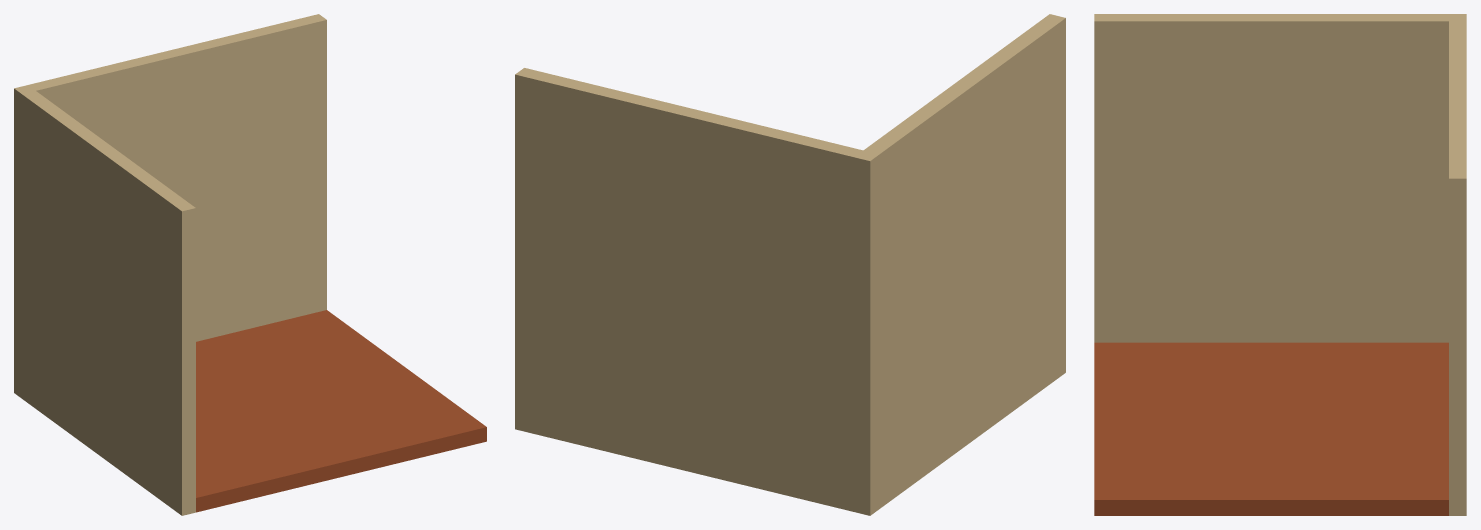
The model's file is room_wood.glb.
3 views of the same model, side by side, from view 1: azimuth 30°, elevation 25°; view 2: azimuth 150°, elevation 25°; view 3: azimuth 270°, elevation 25° (orthographic). The views are drawn at different scales.
Parts seen in each view (by area): view 1: wall; view 2: wall; view 3: wall.
Boxes of the visible parts, left/top/right/bottom form: wall: left=14, top=14, right=486, bottom=515; wall: left=515, top=14, right=1065, bottom=515; wall: left=1094, top=14, right=1466, bottom=515.
Bounding box in the file's own units: 0.44 × 0.42 × 0.42.
Materials: 1 (1 with a texture image).
